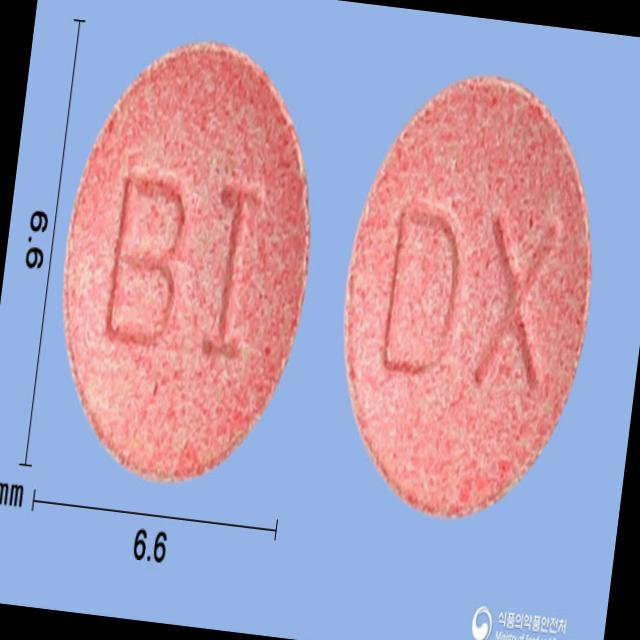Doxic: (319, 62, 616, 536), (39, 29, 334, 497)
